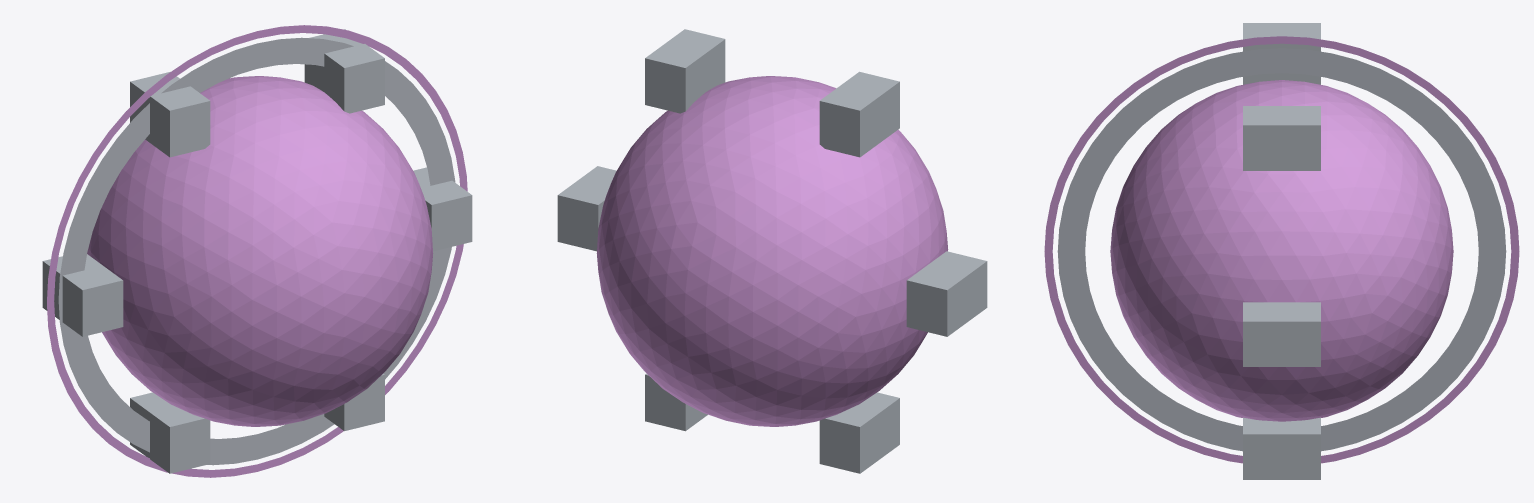
Rendered from vsh-0.glb.
The picture shows the model from 3 angles, left to right: view 1: azimuth 30°, elevation 25°; view 2: azimuth 150°, elevation 25°; view 3: azimuth 270°, elevation 25°; orthographic projection. The views are drawn at different scales.
Parts seen in each view (by area): view 1: part000, part006, part007, part011, part010, part009, part012, part008, part013; view 2: part000, part011, part010, part009, part012, part008, part013; view 3: part000, part002, part003, part008, part009, part013, part010.
Boxes of the visible parts, x1,y1,x2,y2 form: part000: [87, 76, 433, 426]; part006: [58, 37, 455, 465]; part007: [47, 25, 467, 477]; part011: [42, 254, 123, 336]; part010: [130, 71, 210, 157]; part009: [304, 29, 384, 113]; part012: [130, 392, 210, 473]; part008: [413, 167, 472, 251]; part013: [324, 373, 384, 431]; part000: [596, 76, 948, 426]; part011: [906, 251, 987, 336]; part010: [819, 71, 899, 157]; part009: [645, 29, 725, 113]; part012: [819, 392, 899, 473]; part008: [557, 166, 616, 251]; part013: [645, 373, 707, 431]; part000: [1110, 80, 1453, 421]; part002: [1057, 48, 1506, 451]; part003: [1044, 36, 1519, 463]; part008: [1243, 302, 1320, 366]; part009: [1243, 106, 1320, 170]; part013: [1243, 417, 1320, 479]; part010: [1243, 23, 1320, 84].
Bounding box in the file's own units: 2.08 × 2.08 × 2.08.
